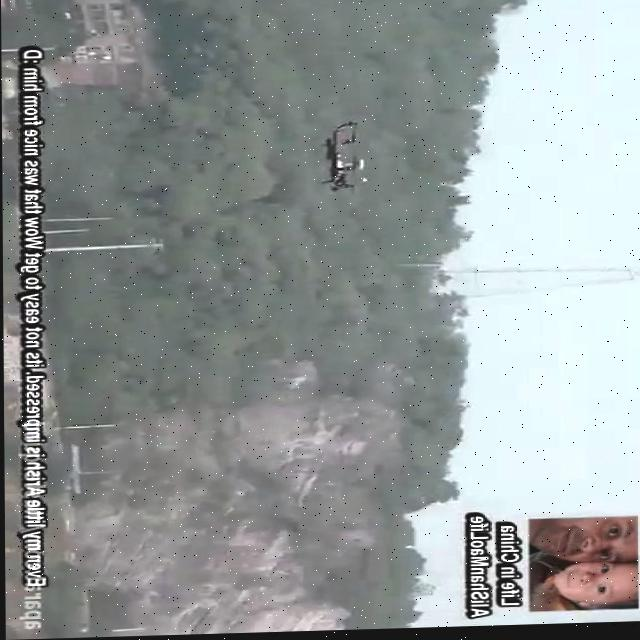drone: (311, 119, 371, 201)
